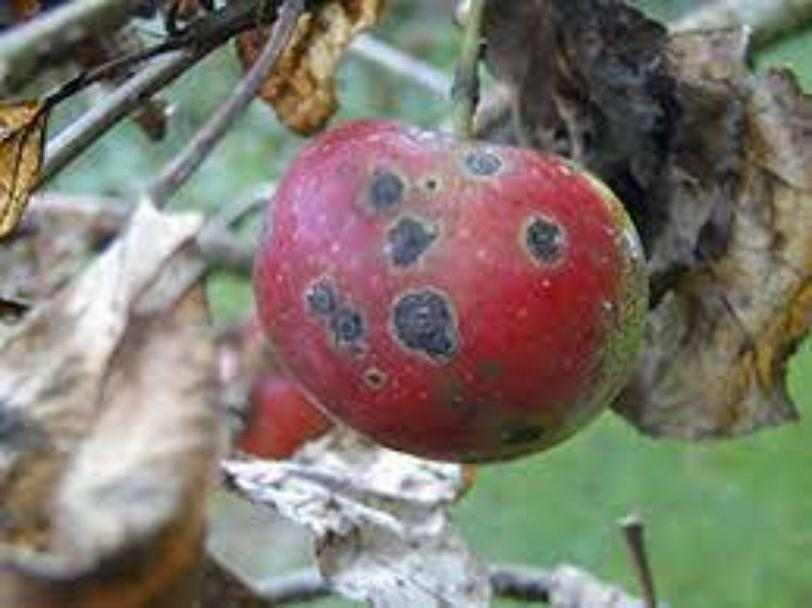SCAB: (253, 114, 656, 477)
